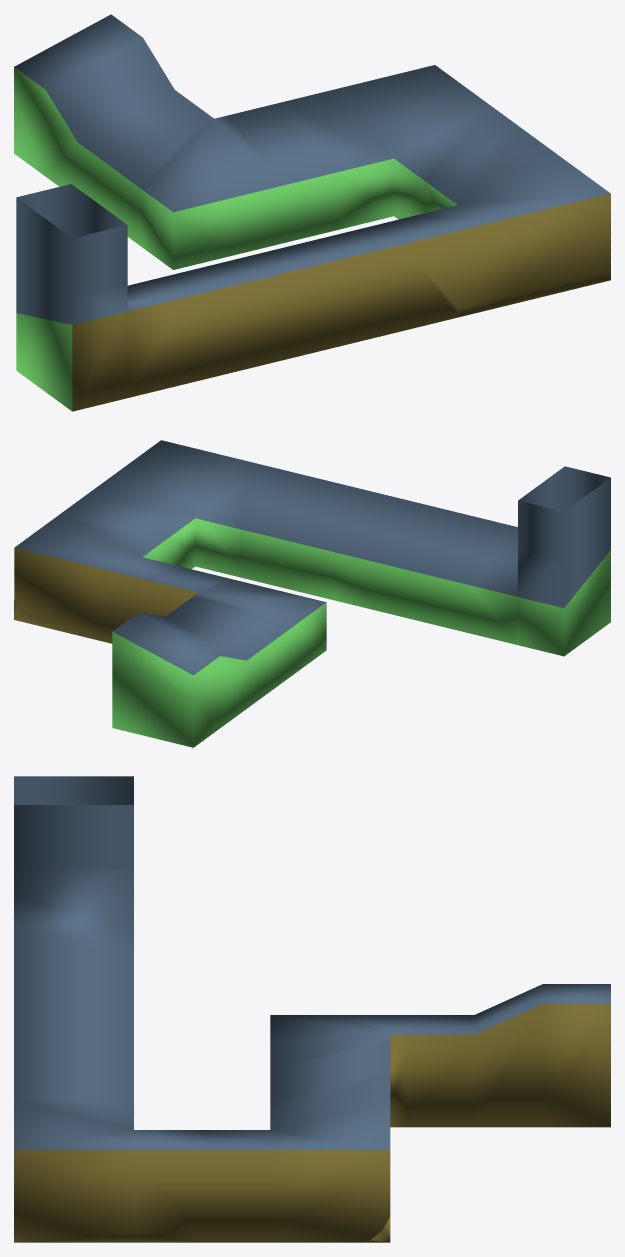
The model's file is test level.fbx.
3 renders of one model, top to bottom at view 1: azimuth 30°, elevation 25°; view 2: azimuth 150°, elevation 25°; view 3: azimuth 270°, elevation 25°, orthographic. The views are drawn at different scales.
Parts seen in each view (by area): view 1: Test_level; view 2: Test_level; view 3: Test_level.
Part boxes in pixels (bbox=[...]): Test_level: bbox=[14, 14, 610, 411]; Test_level: bbox=[14, 440, 610, 747]; Test_level: bbox=[14, 776, 610, 1242].
Size of the model in its own units: 2.57 by 0.7963 by 2.31.
